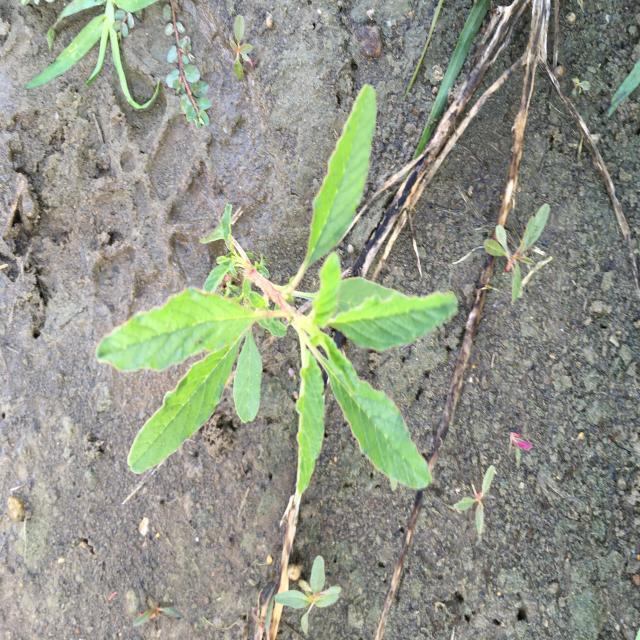SpottedSpurge: (160, 0, 214, 133), (114, 8, 136, 43)
Waterhemp: (92, 81, 460, 500), (482, 200, 552, 307), (271, 555, 345, 639), (454, 464, 498, 537)
